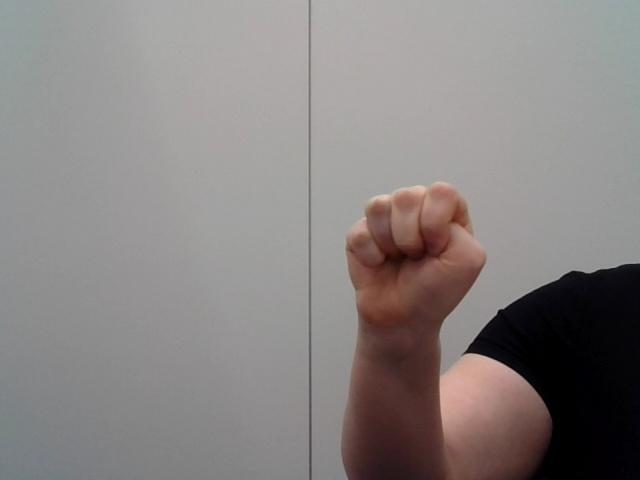down: (320, 178, 497, 336)
